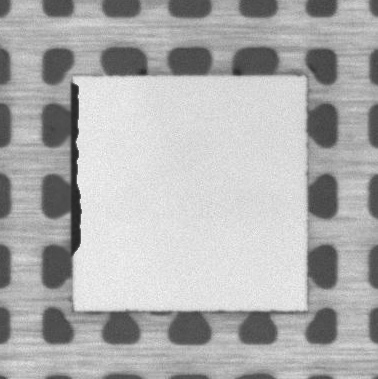DIE_BROKEN: (69, 79, 84, 258)
